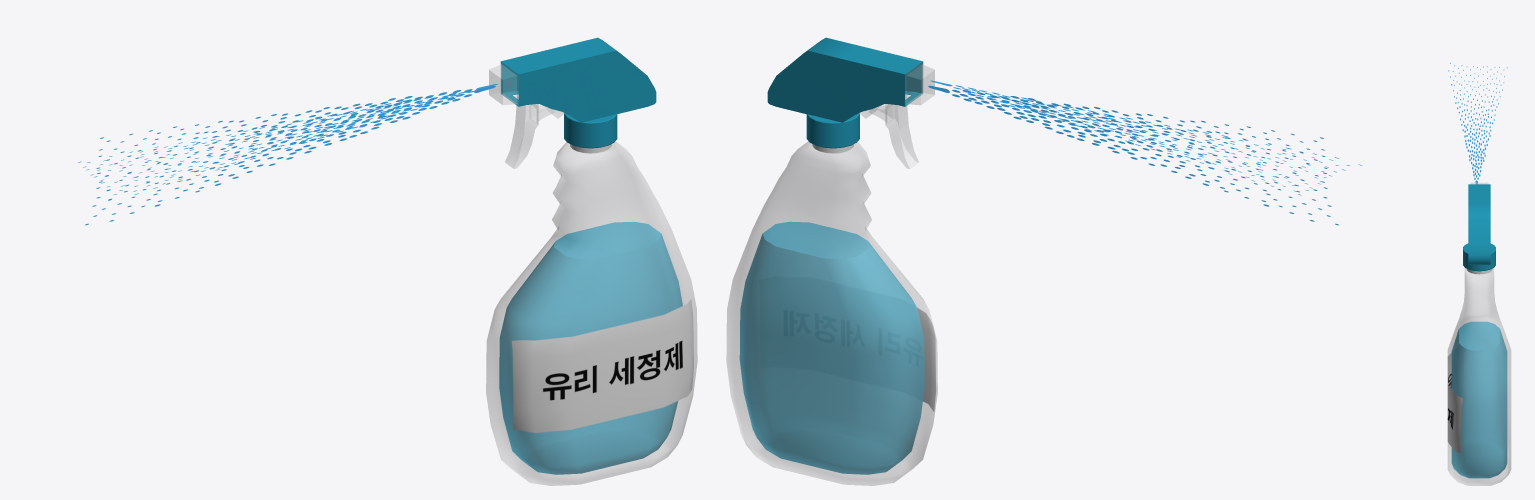
Rendered from Window_cleaner_Spray.gltf.
The picture shows the model from 3 angles, left to right: view 1: azimuth 30°, elevation 25°; view 2: azimuth 150°, elevation 25°; view 3: azimuth 270°, elevation 25°; orthographic projection. The views are drawn at different scales.
Visible parts, largest first — view 1: SprayCleaner_Material #41_0.002, Plane, SprayCleaner_Material #41_0.003; view 2: SprayCleaner_Material #41_0.002, Plane, SprayCleaner_Material #41_0.003; view 3: SprayCleaner_Material #41_0.002, Plane.
Boxes of the visible parts, <box> form: SprayCleaner_Material #41_0.002: <box>486,37,697,485</box>; Plane: <box>78,84,497,225</box>; SprayCleaner_Material #41_0.003: <box>505,95,555,168</box>; SprayCleaner_Material #41_0.002: <box>726,37,937,485</box>; Plane: <box>928,80,1362,225</box>; SprayCleaner_Material #41_0.003: <box>868,95,918,168</box>; SprayCleaner_Material #41_0.002: <box>1447,182,1511,485</box>; Plane: <box>1448,63,1507,184</box>.
Size of the model in its own units: 0.4761 by 0.3287 by 0.0859.
